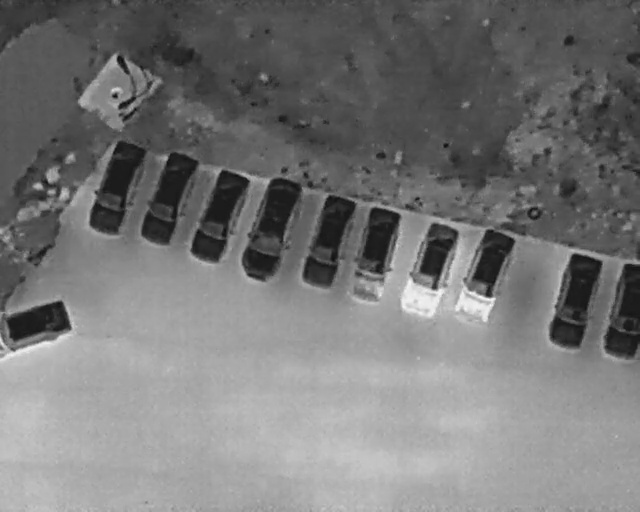Car: (232, 168, 313, 288), (392, 214, 469, 325), (183, 160, 257, 268), (447, 221, 522, 327), (80, 133, 151, 241), (133, 144, 204, 251), (295, 187, 362, 294), (542, 249, 607, 353), (344, 202, 406, 308), (0, 297, 74, 361), (600, 260, 639, 363)
